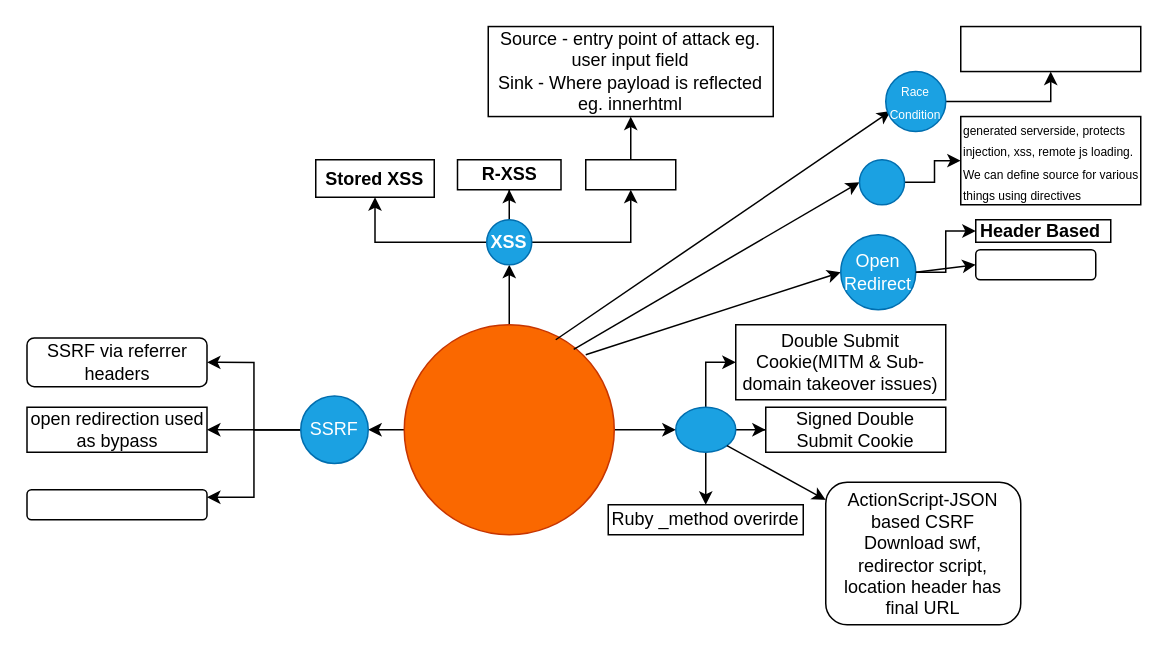
The diagram is 1167 pixels wide and 651 high, and some of its shapes have lost their labels. The centre of each missing label's shape, as x and y in pixels:
Blind SSRF: (116,504)
CSP: (881,181)
CSRF: (705,429)
DOM_XSS: (630,174)
JS Based: (1035,264)
Multiple Payment, Undelete cards, Submitting flags in CTF: (1050,48)
Vulnerability MindMap: (508,429)
